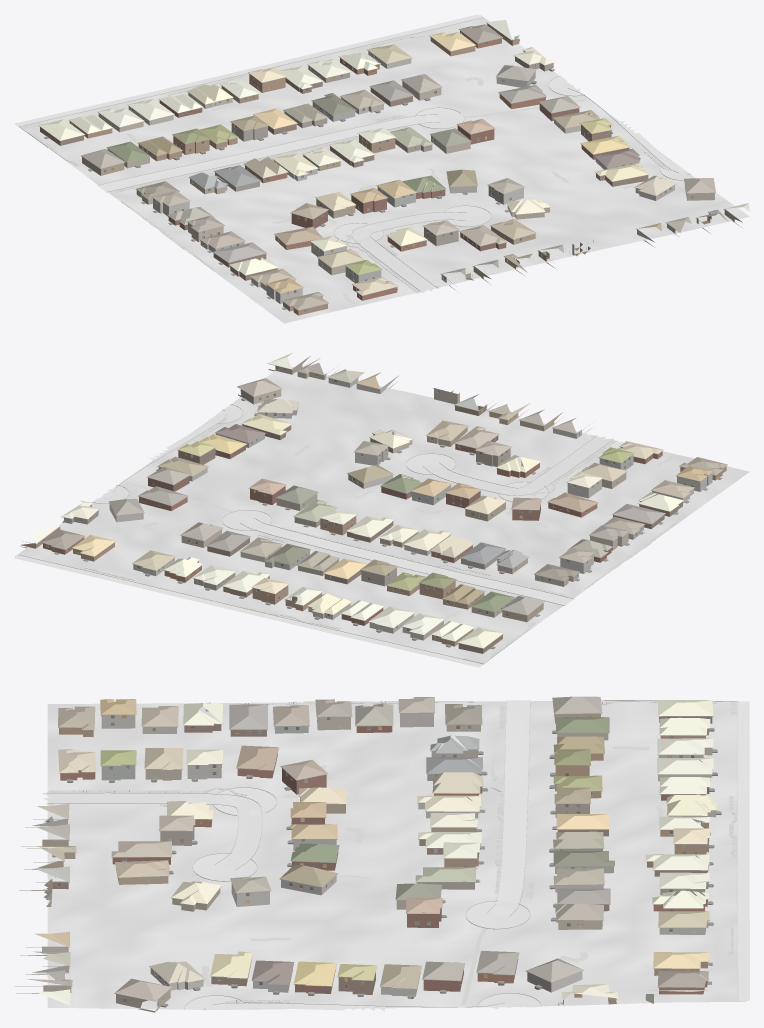
3 views of the same model, one above another, from view 1: azimuth 30°, elevation 25°; view 2: azimuth 150°, elevation 25°; view 3: azimuth 270°, elevation 25° (orthographic). The views are drawn at different scales.
Parts seen in each view (by area): view 1: ground, roof, wall, concrete, detail, wall_stone, walk, wall_stucco, curb, glass; view 2: ground, roof, wall, concrete, detail, wall_stone, wall_stucco, walk, curb, glass; view 3: ground, roof, concrete, wall, detail, wall_stone, walk, wall_stucco, curb, glass.
Boxes of the visible parts, bbox=[...] form: ground: bbox=[19, 15, 749, 323]; roof: bbox=[39, 20, 749, 310]; wall: bbox=[40, 23, 742, 315]; concrete: bbox=[14, 14, 695, 292]; detail: bbox=[39, 22, 740, 311]; wall_stone: bbox=[153, 51, 674, 303]; walk: bbox=[19, 34, 671, 304]; wall_stucco: bbox=[98, 81, 678, 283]; curb: bbox=[18, 17, 690, 291]; glass: bbox=[104, 26, 693, 296]; ground: bbox=[14, 366, 749, 666]; roof: bbox=[30, 353, 727, 648]; wall: bbox=[21, 355, 726, 653]; concrete: bbox=[14, 404, 613, 667]; detail: bbox=[23, 362, 727, 649]; wall_stone: bbox=[109, 407, 712, 575]; wall_stucco: bbox=[181, 375, 643, 640]; walk: bbox=[84, 418, 678, 663]; curb: bbox=[19, 404, 677, 664]; glass: bbox=[38, 366, 693, 638]; ground: bbox=[47, 700, 746, 1009]; roof: bbox=[21, 696, 717, 1004]; concrete: bbox=[43, 700, 749, 1011]; wall: bbox=[16, 713, 712, 1012]; detail: bbox=[14, 700, 721, 1007]; wall_stone: bbox=[25, 713, 708, 996]; walk: bbox=[46, 700, 736, 1004]; wall_stucco: bbox=[20, 717, 716, 992]; curb: bbox=[43, 700, 738, 1009]; glass: bbox=[51, 715, 697, 1005].
Bounding box in the file's own units: 256 × 12.95 × 263.
